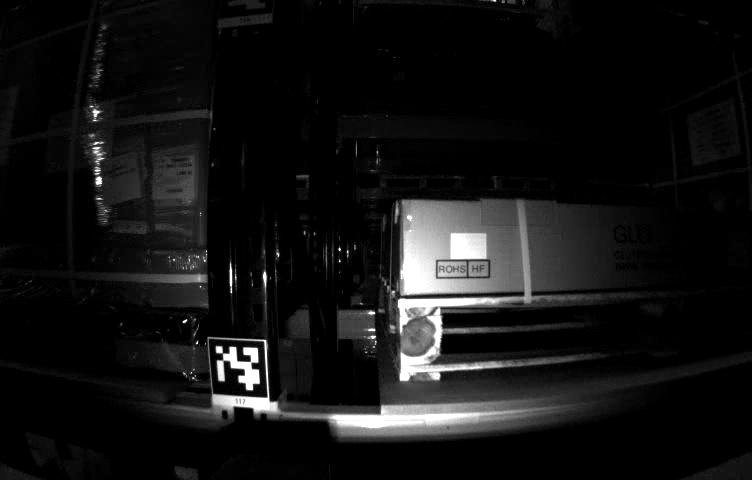True Barcode: (147, 155, 196, 200)
